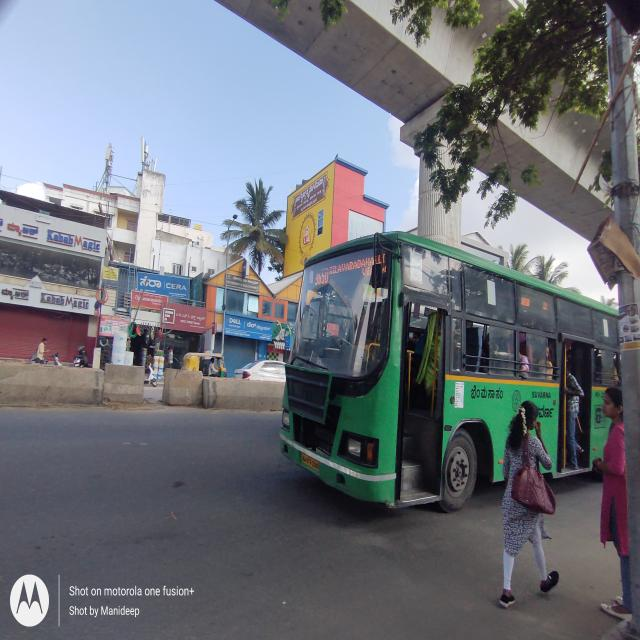bus: (276, 234, 640, 509)
display: (300, 250, 389, 292)
dnumber: (310, 265, 329, 288)
